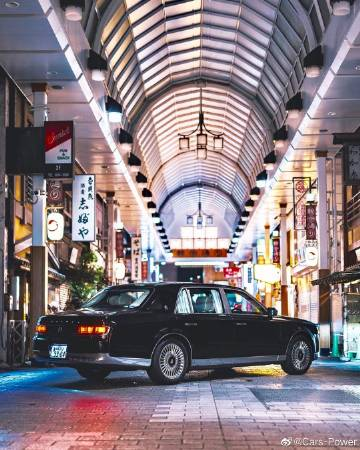other: (22, 275, 323, 392)
